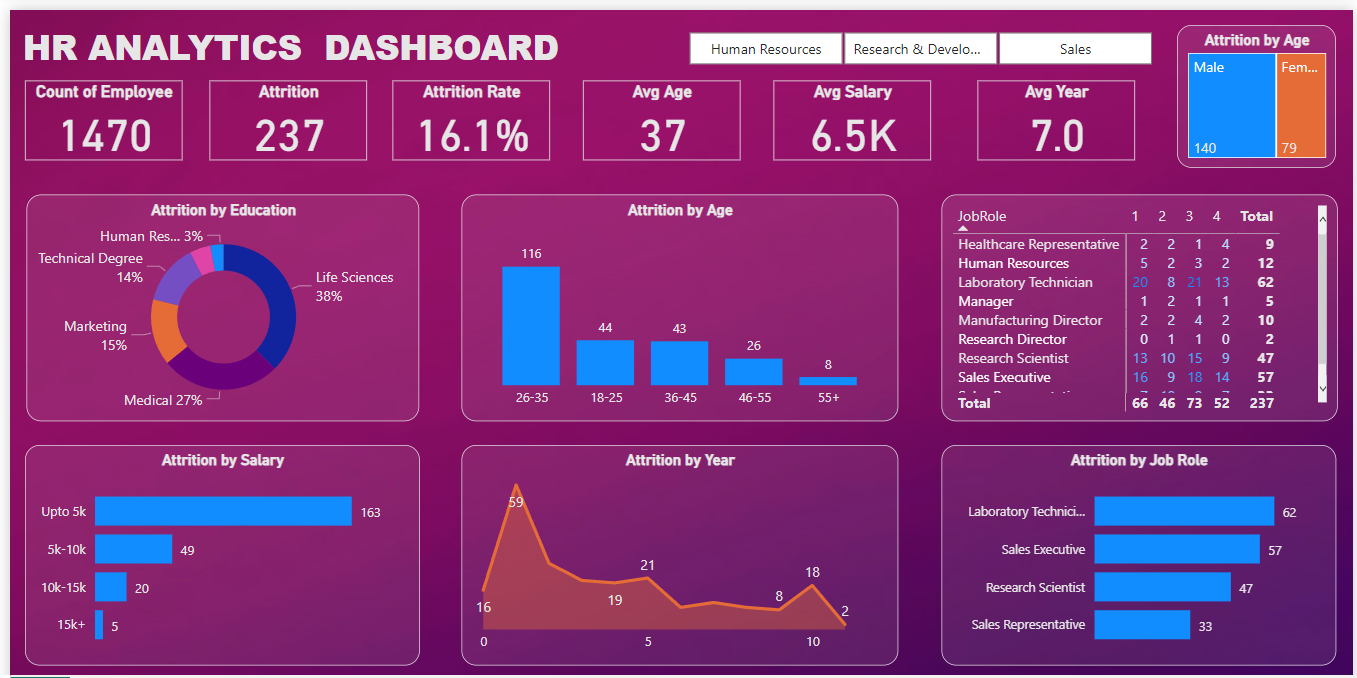

Layout of this report page (visuals, bound fields, positions):
{"tool":"powerbi","page":{"name":"Page 1","canvas":[1280,720],"ordinal":0},"visuals":[{"type":"card","title":"Count of Employee","fields":{"Values":["Count(HR_Analytics.EmpID)"]},"box":[14.3,67.1,150,75.7],"z":0},{"type":"card","title":"Attrition","fields":{"Values":["Sum(HR_Analytics.AttritionCount)"]},"box":[190,67.1,150,75.7],"z":1},{"type":"card","title":"Attrition Rate","fields":{"Values":["HR_Analytics.AttritionRate"]},"box":[364.3,67.1,150,75.7],"z":2},{"type":"card","title":"Avg Age","fields":{"Values":["Avg(HR_Analytics.Age)"]},"box":[545.7,67.1,150,75.7],"z":3},{"type":"card","title":"Avg Salary","fields":{"Values":["Avg(HR_Analytics.MonthlyIncome)"]},"box":[727.1,67.1,150,75.7],"z":4},{"type":"card","title":"Avg Year","fields":{"Values":["Avg(HR_Analytics.YearsAtCompany)"]},"box":[921.4,67.1,150,75.7],"z":5},{"type":"donutChart","title":"Attrition by Education","fields":{"Category":["HR_Analytics.EducationField"],"Y":["Sum(HR_Analytics.AttritionCount)"]},"box":[15.7,175.7,374.3,215.7],"z":6},{"type":"columnChart","title":"Attrition by Age","fields":{"Category":["HR_Analytics.AgeGroup"],"Y":["Sum(HR_Analytics.AttritionCount)"]},"box":[430,175.7,415.7,215.7],"z":7},{"type":"pivotTable","fields":{"Rows":["HR_Analytics.JobRole"],"Columns":["HR_Analytics.JobSatisfaction"],"Values":["Sum(HR_Analytics.AttritionCount)"]},"box":[887.1,175.7,377.1,215.7],"z":8},{"type":"barChart","title":"Attrition by Salary","fields":{"Category":["HR_Analytics.SalarySlab"],"Y":["Sum(HR_Analytics.AttritionCount)"]},"box":[14.3,414.3,375.7,210],"z":9},{"type":"barChart","title":"Attrition by Job Role","fields":{"Category":["HR_Analytics.JobRole"],"Y":["Sum(HR_Analytics.AttritionCount)"]},"box":[887.1,414.3,375.7,210],"z":10},{"type":"areaChart","title":"Attrition by Year","fields":{"Category":["HR_Analytics.YearsAtCompany"],"Y":["Sum(HR_Analytics.AttritionCount)"]},"box":[430,414.3,415.7,210],"z":11},{"type":"treemap","title":"Attrition by Age","fields":{"Group":["HR_Analytics.Gender"],"Values":["Sum(HR_Analytics.AttritionCount)"]},"box":[1111.4,14.3,151.4,135.7],"z":12},{"type":"slicer","fields":{"Values":["HR_Analytics.Department"]},"box":[621.4,14.3,490,44.3],"z":13},{"type":"textbox","box":[7.1,7.1,567.1,60],"z":14}]}

Visuals, with their boxes on the page's 1280x720 design canvas (x1, y1, x2, y2). These are canvas units, not pixel positions in the 1357x678 screenshot, which may show the page scaled, cropped or inside an application window:
"Count of Employee" card: (left=14, top=67, right=164, bottom=143)
"Attrition" card: (left=190, top=67, right=340, bottom=143)
"Attrition Rate" card: (left=364, top=67, right=514, bottom=143)
"Avg Age" card: (left=546, top=67, right=696, bottom=143)
"Avg Salary" card: (left=727, top=67, right=877, bottom=143)
"Avg Year" card: (left=921, top=67, right=1071, bottom=143)
"Attrition by Education" donutChart: (left=16, top=176, right=390, bottom=391)
"Attrition by Age" columnChart: (left=430, top=176, right=846, bottom=391)
pivotTable - HR_Analytics.JobRole x HR_Analytics.JobSatisfaction: (left=887, top=176, right=1264, bottom=391)
"Attrition by Salary" barChart: (left=14, top=414, right=390, bottom=624)
"Attrition by Job Role" barChart: (left=887, top=414, right=1263, bottom=624)
"Attrition by Year" areaChart: (left=430, top=414, right=846, bottom=624)
"Attrition by Age" treemap: (left=1111, top=14, right=1263, bottom=150)
slicer - HR_Analytics.Department: (left=621, top=14, right=1111, bottom=59)
textbox: (left=7, top=7, right=574, bottom=67)
